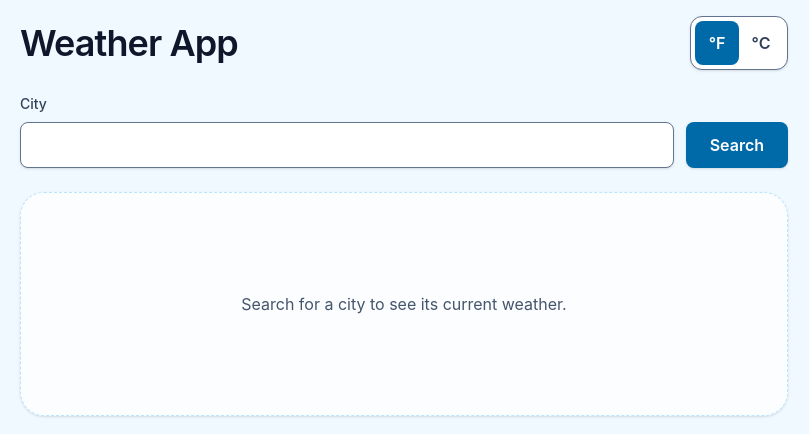
Test case: App › renders the unexpected-failure error with safe, category-specific content
The width and height of the screenshot is (809, 434).
Type "Tampa" into the field labelled "City" at (347, 145), box [20,122,674,168]
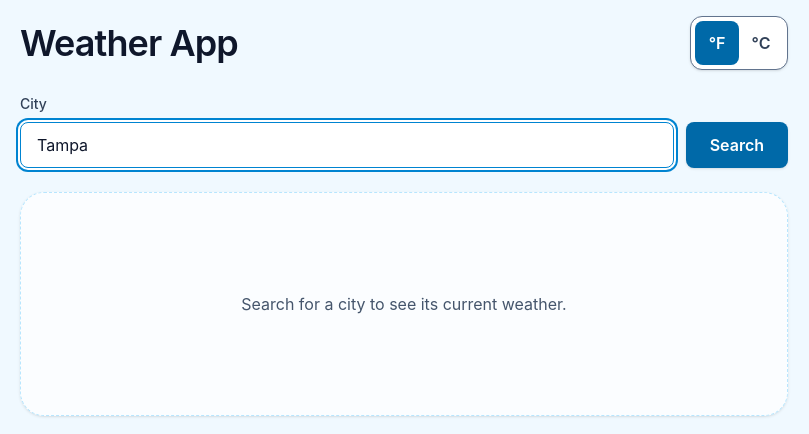
Click the button "Search" at (737, 145), box [686,122,788,168]
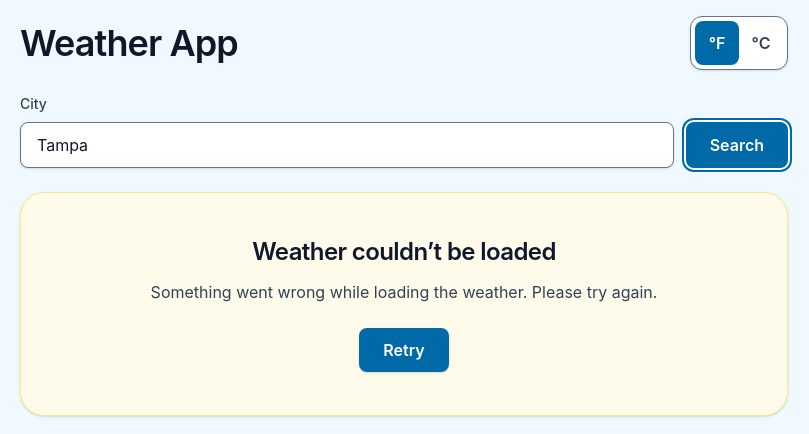
Expected: the heading "Weather couldn’t be loaded" is shown, [252,237,556,266]
Expected: the text "Something went wrong while loading the weather. Please try again." is shown, [151,280,657,304]
Expected: the button "Retry" is enabled, [359,328,449,372]
